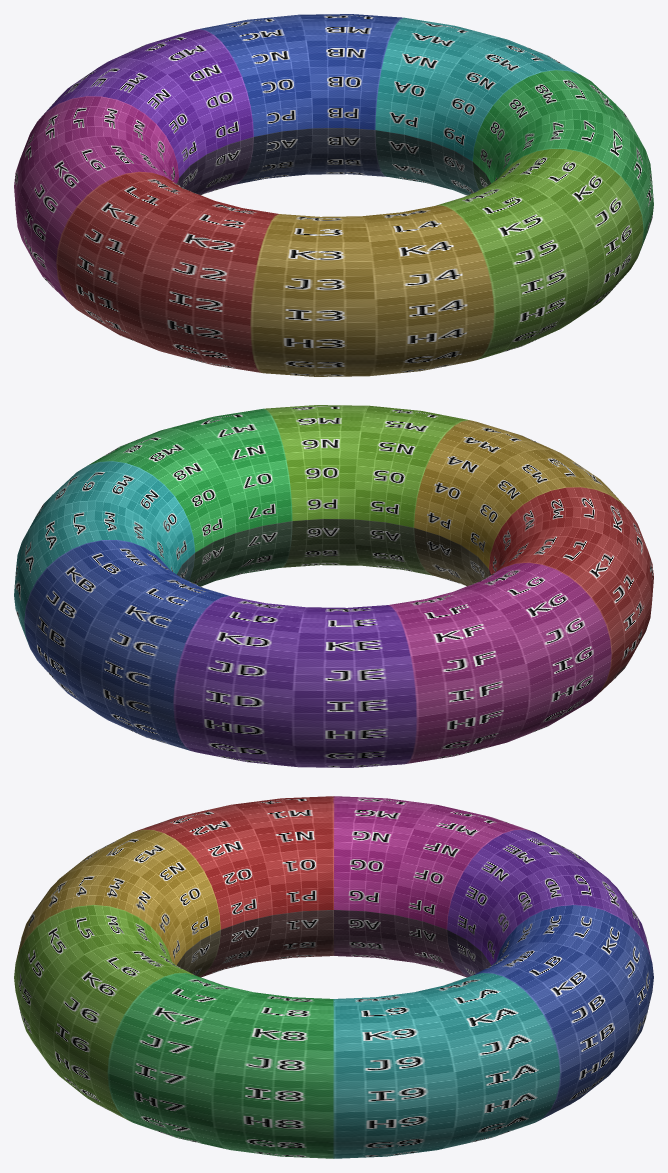
3 renders of one model, top to bottom at view 1: azimuth 30°, elevation 25°; view 2: azimuth 150°, elevation 25°; view 3: azimuth 270°, elevation 25°, orthographic.
Parts seen in each view (by area): view 1: Torus; view 2: Torus; view 3: Torus.
Boxes of the visible parts, <box> form: Torus: <box>14,14,653,376</box>; Torus: <box>14,405,653,767</box>; Torus: <box>14,796,653,1158</box>.
Size of the model in its own units: 8.88 by 2.22 by 8.88.
1 material, 1 textured.
